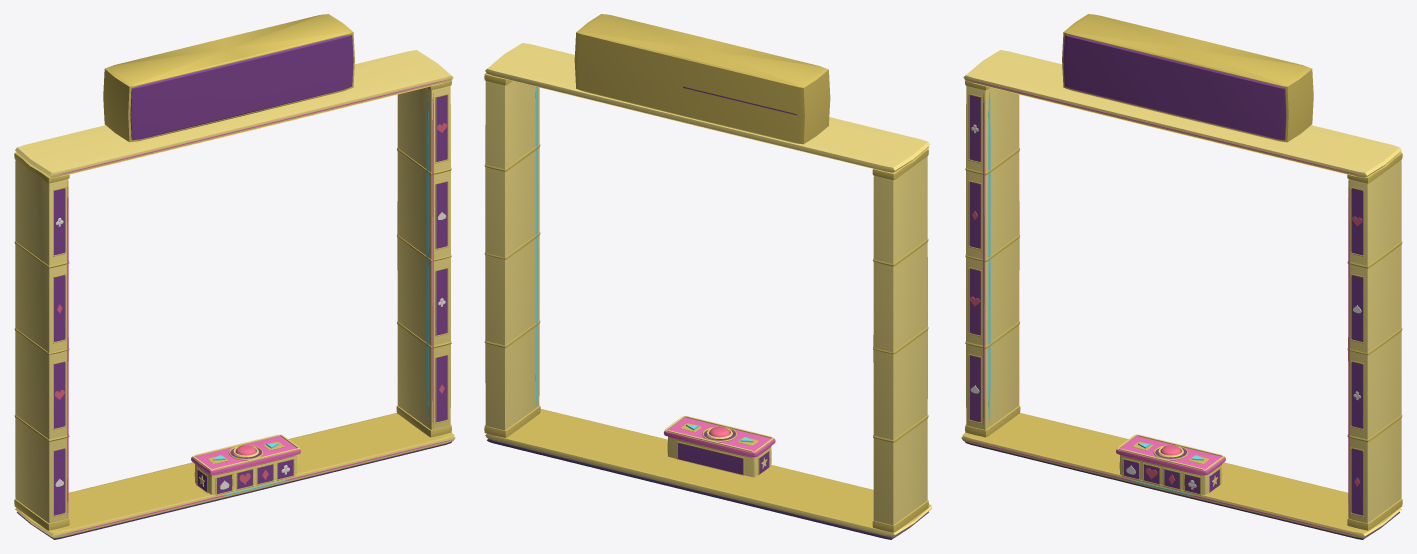
Rendered from plinko.glb.
The picture shows the model from 3 angles, left to right: view 1: azimuth 30°, elevation 25°; view 2: azimuth 150°, elevation 25°; view 3: azimuth 330°, elevation 25°; orthographic projection.
Parts seen in each view (by area): view 1: plinko_frame, plinko_console; view 2: plinko_frame, plinko_console; view 3: plinko_frame, plinko_console.
Boxes of the visible parts, x1,y1,x2,y2 form: plinko_frame: [14, 14, 455, 539]; plinko_console: [191, 434, 300, 501]; plinko_frame: [484, 14, 932, 539]; plinko_console: [664, 416, 775, 477]; plinko_frame: [961, 14, 1402, 539]; plinko_console: [1116, 434, 1225, 501].
Size of the model in its own units: 16.02 by 15.96 by 2.77.
